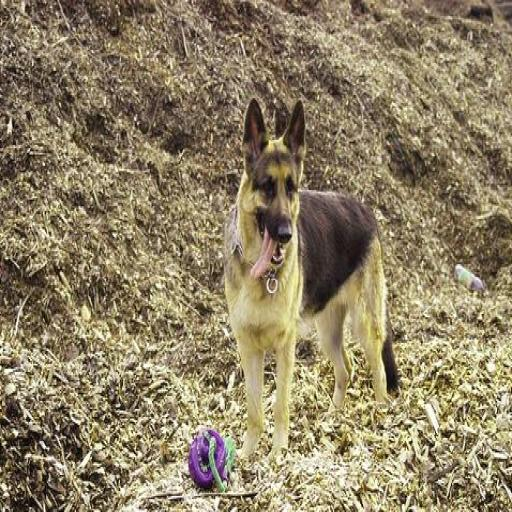dog_face: (241, 93, 308, 255)
